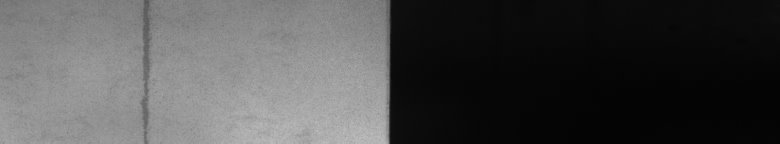hd: (137, 4, 156, 136)
